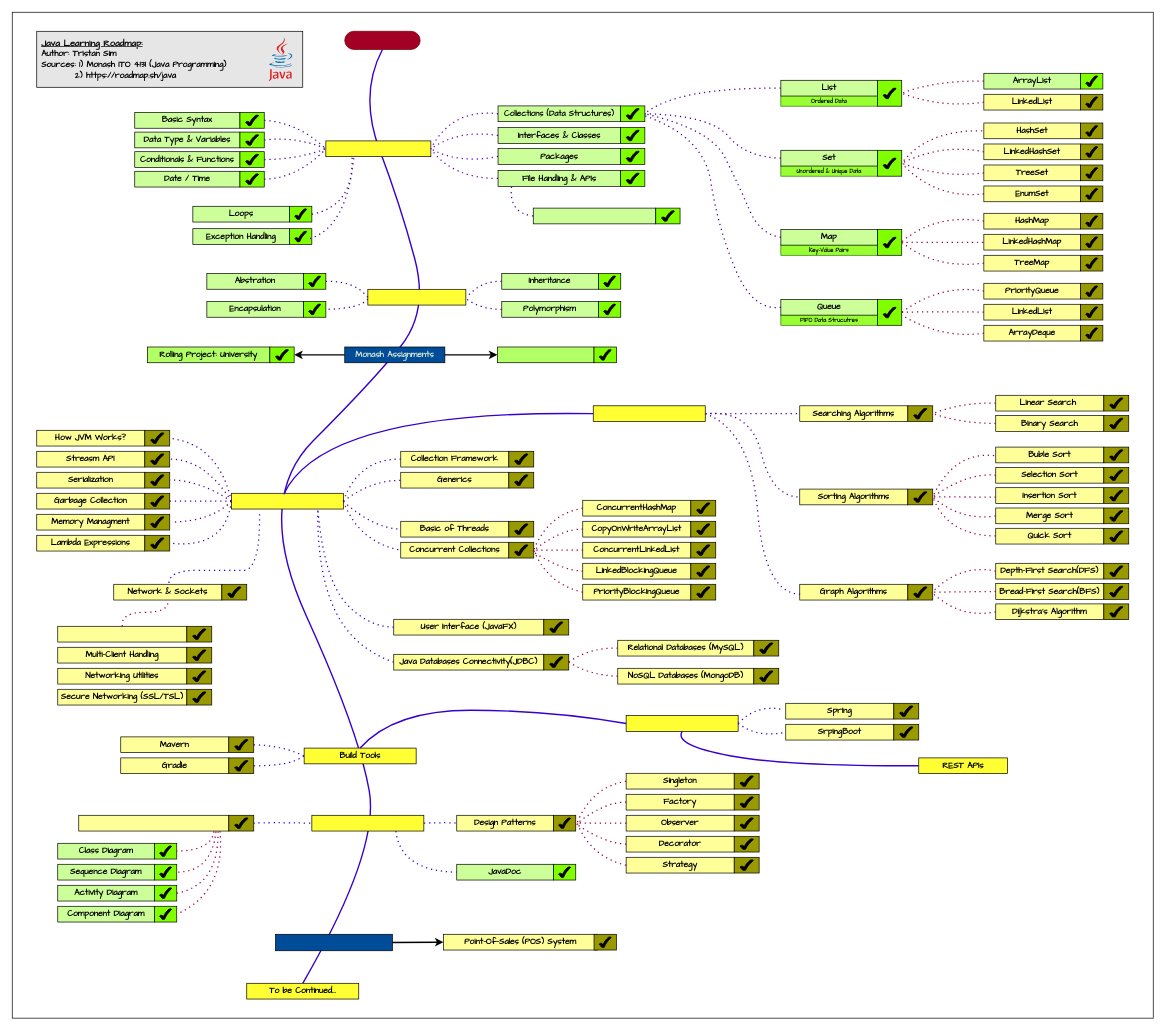
Some shapes in this 1166 by 1030 pixel diagram are drawn without their labels. Each missing label, with the box of its shape:
4 Pillars of OOP: (367, 289, 466, 305)
Basic Algorithms: (593, 405, 705, 422)
Capstone: Project: (275, 934, 392, 951)
FileIO (txt,csv,json & jpg): (533, 207, 656, 224)
Fundamentals: (325, 140, 431, 157)
Intermediary: (231, 493, 343, 509)
Java: (344, 31, 420, 49)
Java Jumper: (497, 346, 594, 363)
Software Design: (311, 815, 424, 831)
TCP & UDP Communciations: (57, 626, 187, 642)
Unified Modelling Language (UML): (78, 815, 229, 831)
Web Frameworks: (625, 715, 738, 731)
